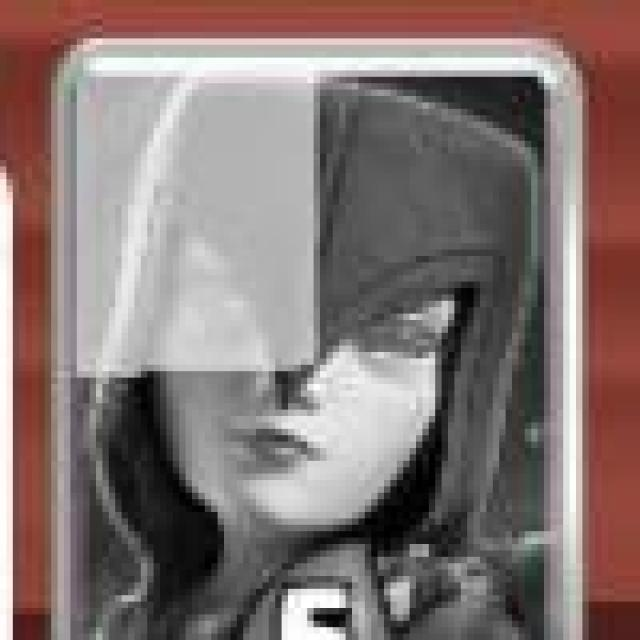Witch: (52, 44, 584, 640)
